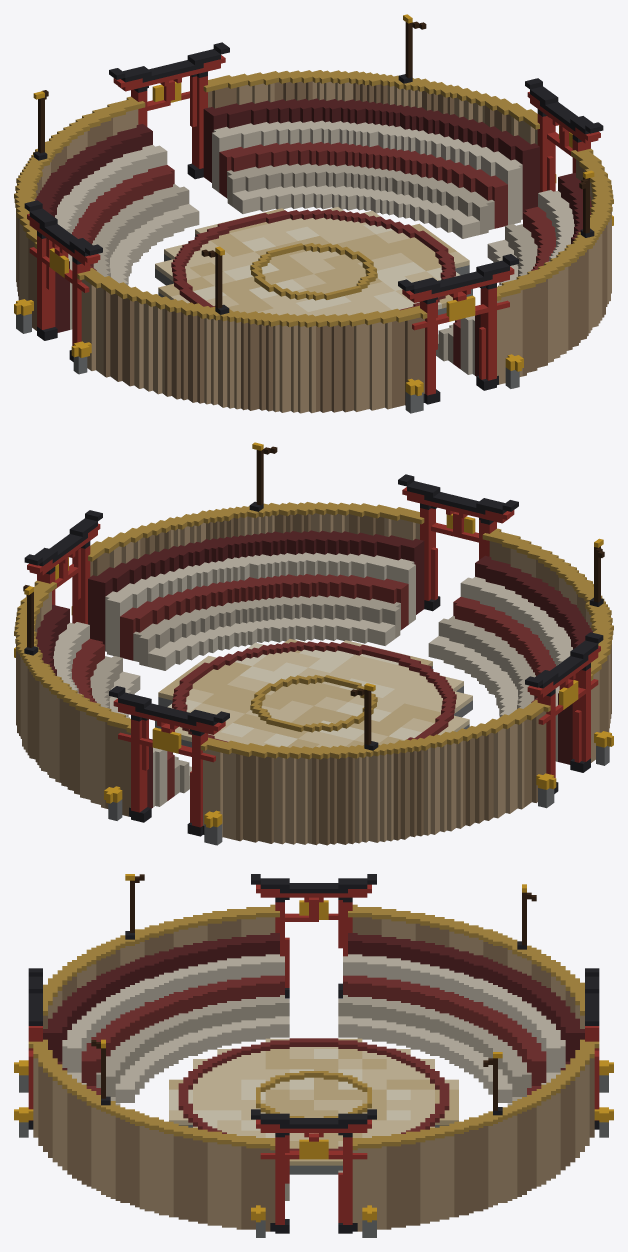
The model's file is Colosseum.glb.
3 renders of one model, top to bottom at view 1: azimuth 30°, elevation 25°; view 2: azimuth 150°, elevation 25°; view 3: azimuth 270°, elevation 25°, orthographic. The views are drawn at different scales.
Visible parts, largest first — view 1: Colosseum1; view 2: Colosseum1; view 3: Colosseum1.
Boxes of the visible parts, box(x1,y1,x2,y2) form: Colosseum1: box(14, 14, 613, 413); Colosseum1: box(14, 442, 613, 845); Colosseum1: box(14, 874, 613, 1237).
Bounding box in the file's own units: 99.2 × 27.2 × 99.2.
